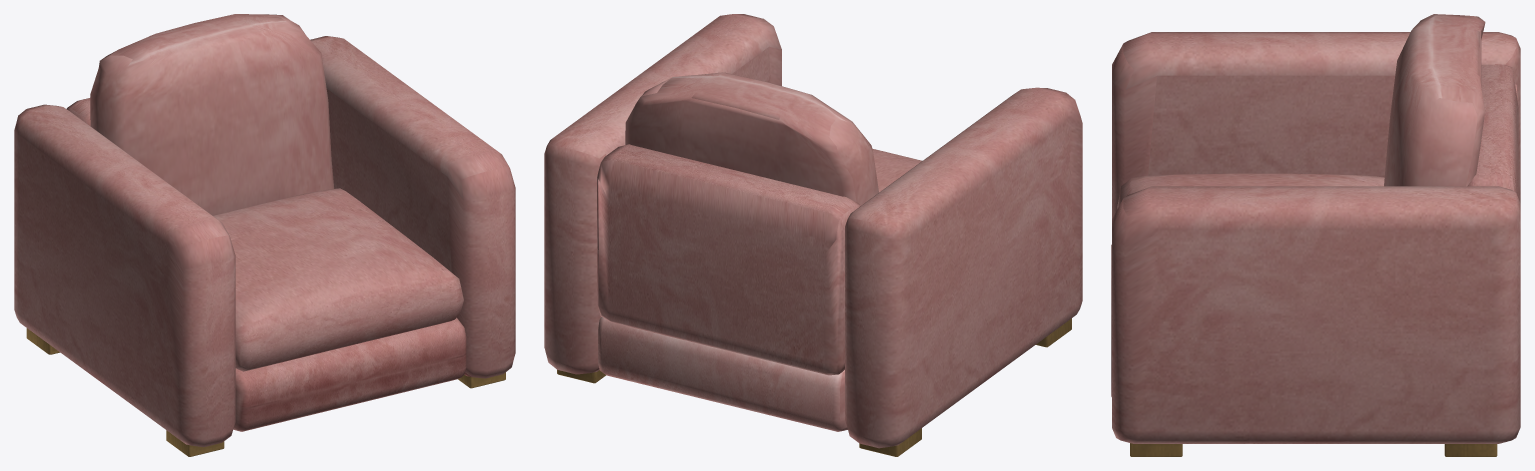
File: sofa_small_new.glb
3 views of the same model, side by side, from view 1: azimuth 30°, elevation 25°; view 2: azimuth 150°, elevation 25°; view 3: azimuth 270°, elevation 25° (orthographic). The views are drawn at different scales.
Parts seen in each view (by area): view 1: g; view 2: g; view 3: g.
Boxes of the visible parts, left/top/right/bottom form: g: left=14, top=14, right=515, bottom=456; g: left=544, top=14, right=1082, bottom=456; g: left=1111, top=14, right=1520, bottom=456.
Size of the model in its own units: 0.8096 by 0.663 by 0.7582.
1 material, 1 textured.
